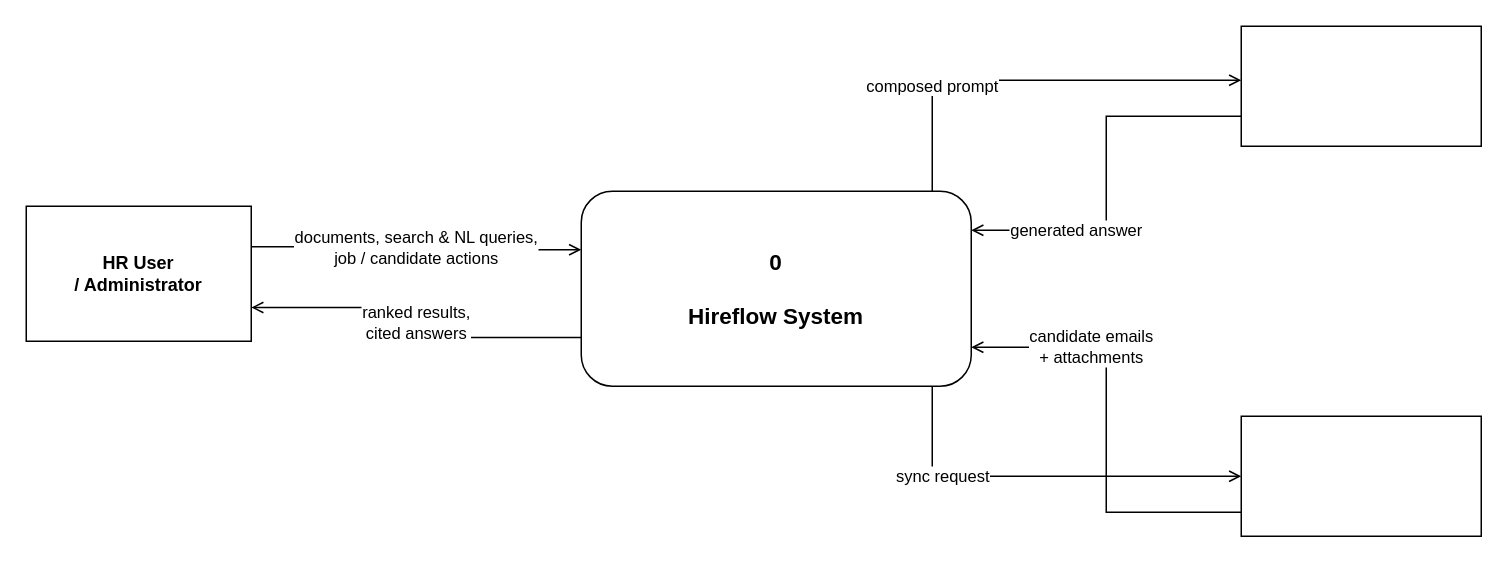
Some shapes in this 1508 by 563 pixel diagram are drawn without their labels. Each missing label, with the centre of its shape:
"Gmail Service" goes at pixel 1360 475.
"LLM Provider (Anthropic Claude)" goes at pixel 1360 85.
